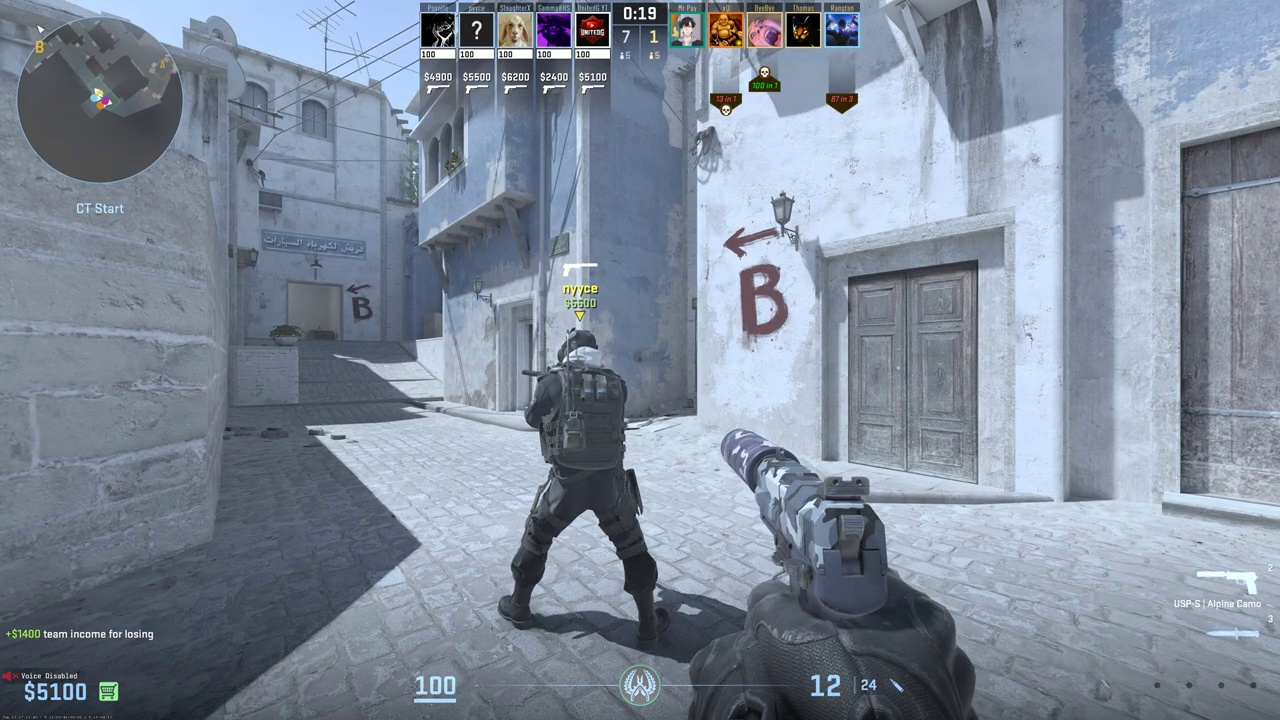CT: (522, 330, 654, 644)
